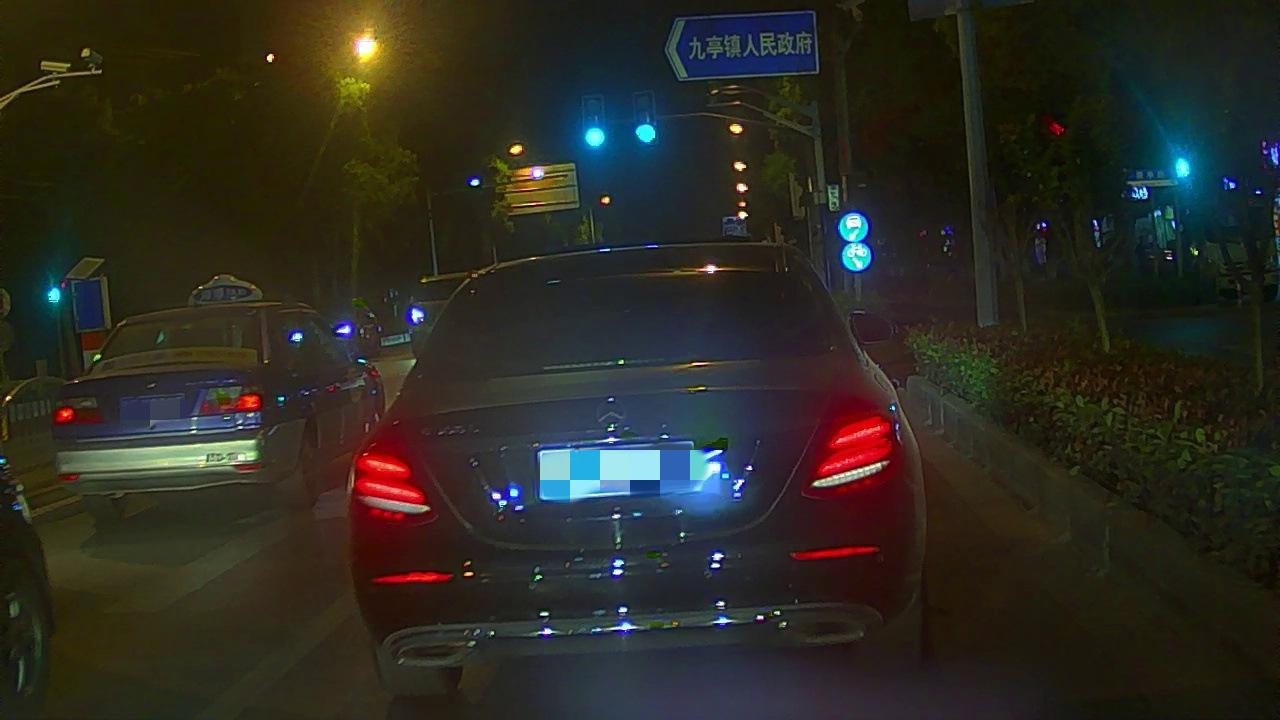traffic_light: (584, 97, 607, 153), (634, 93, 658, 144)
